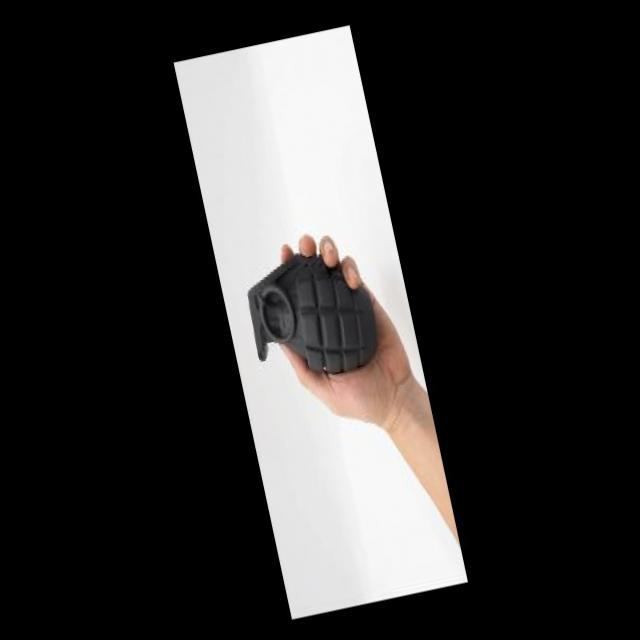grenade: (233, 242, 394, 398)
